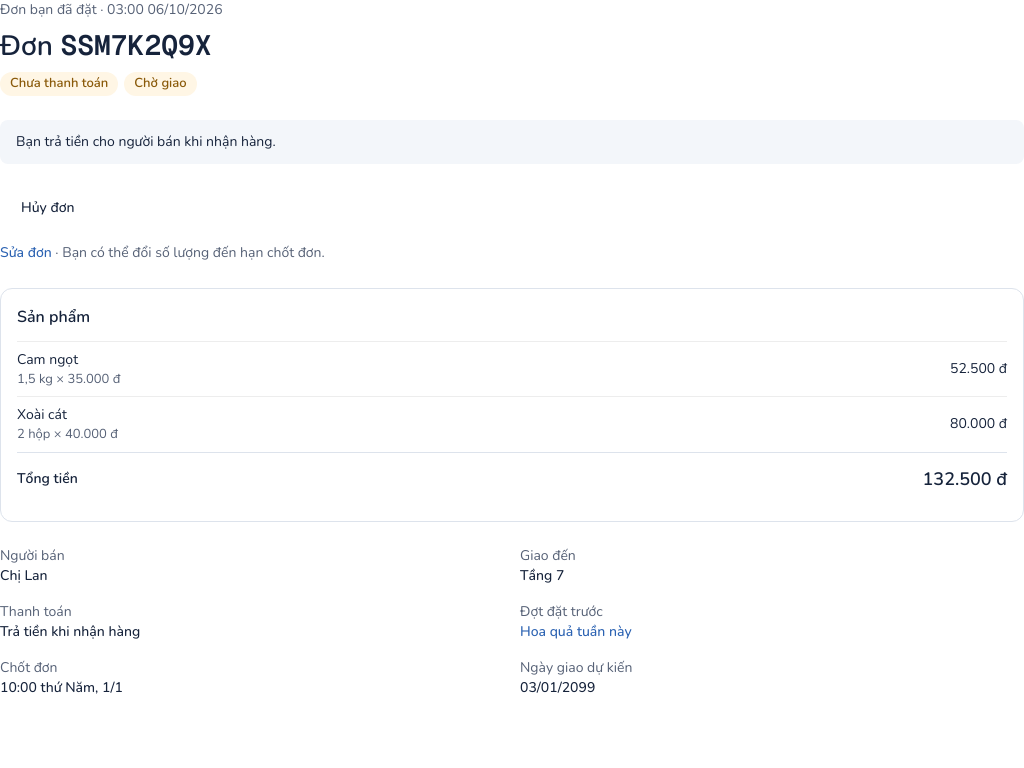
Test case: editing an order › follows the selection in the new total, combos included
Step 1. Click the button "Sửa đơn" → (26, 252), box left=0, top=242, right=52, bottom=262
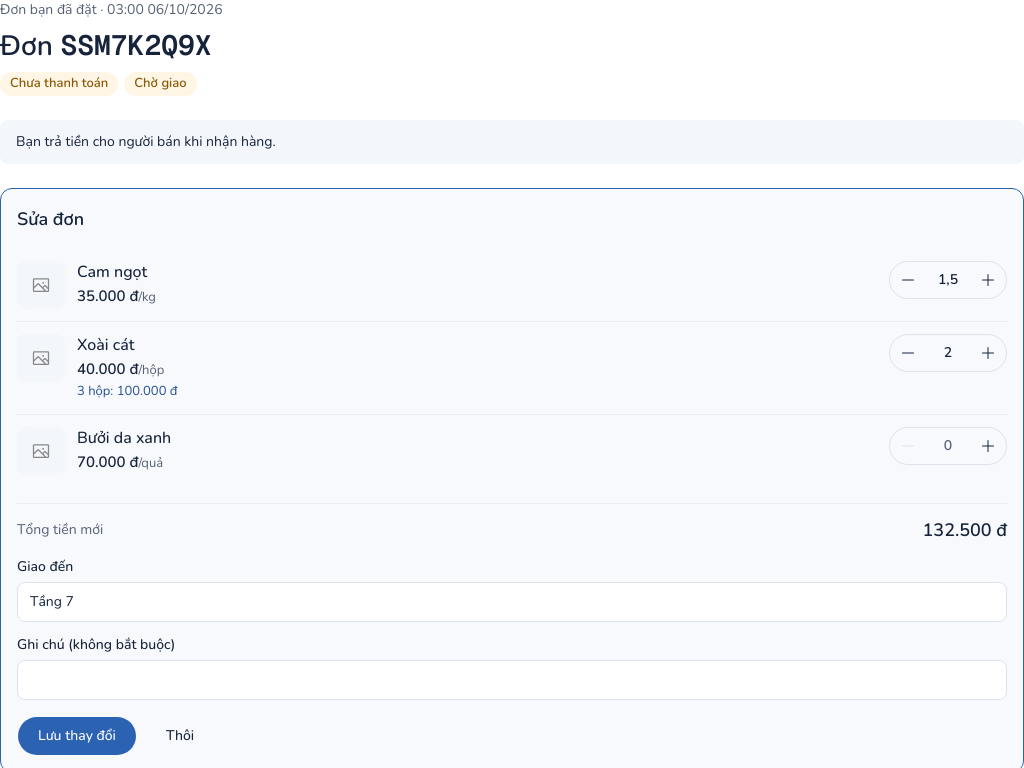
Step 2. Replace the text in the field named "Số lượng Xoài cát" with "4" → (948, 352), box left=926, top=342, right=970, bottom=362
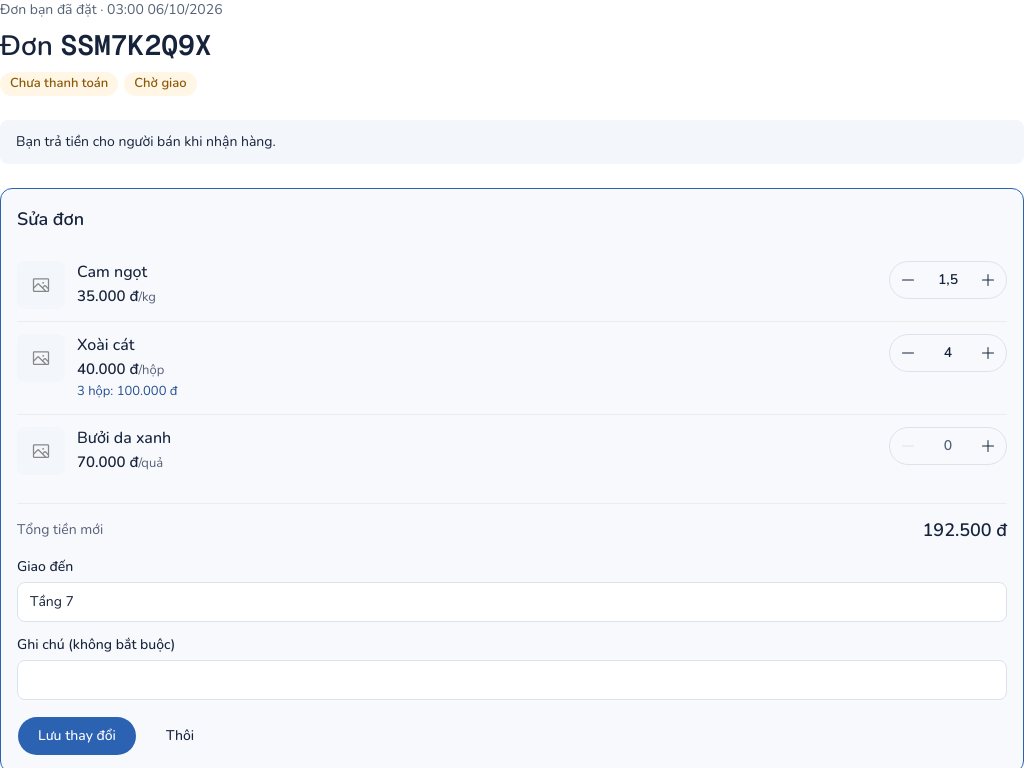
Now the text named "Tổng tiền mới" reads "192.500 đ", box left=922, top=518, right=1007, bottom=542
Step 3. Type "1" into the field with placeholder "0" → (948, 446), box left=926, top=436, right=970, bottom=456
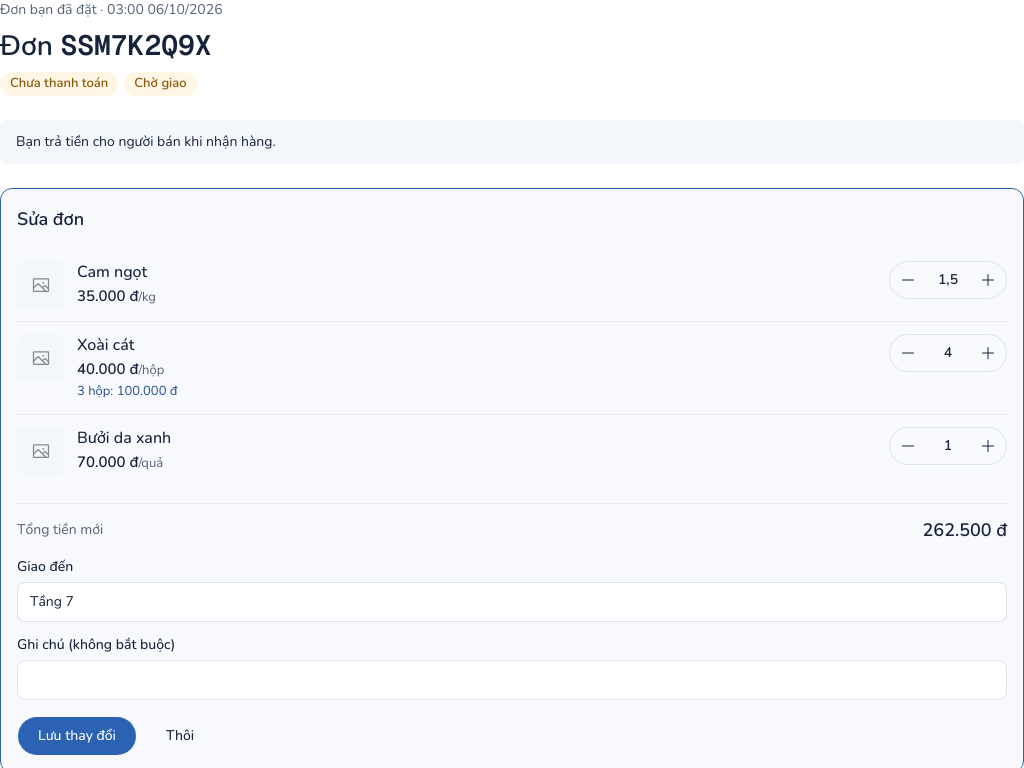
Now the text named "Tổng tiền mới" reads "262.500 đ", box left=922, top=518, right=1007, bottom=542
